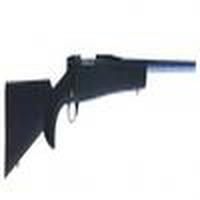gun: (2, 57, 197, 170)
